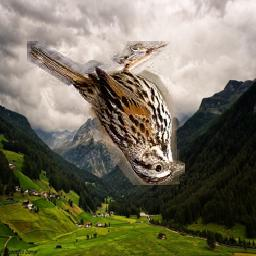Sparrow: (27, 41, 185, 185)
